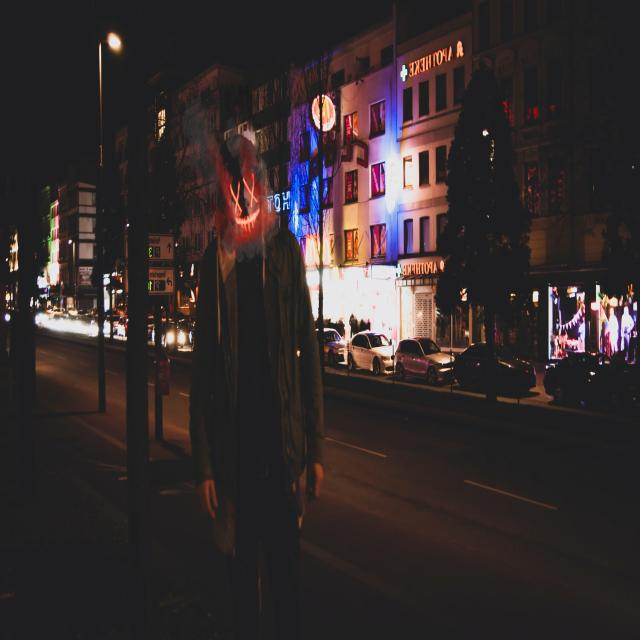adult: (188, 136, 322, 640)
